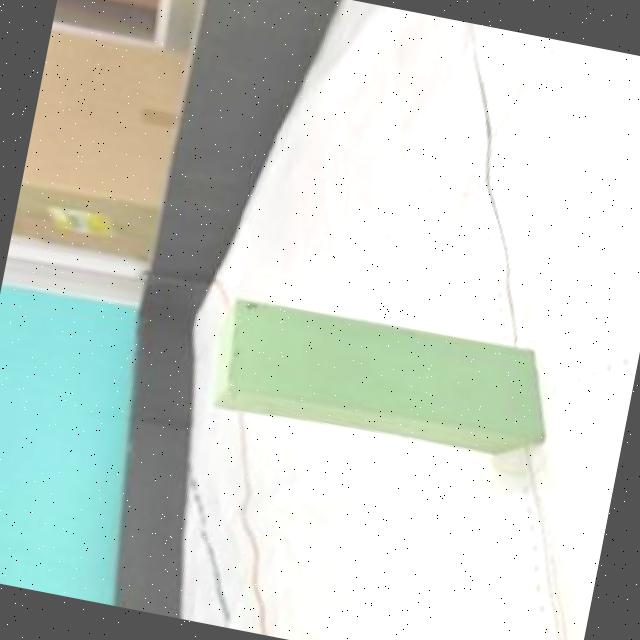greenbox: (203, 290, 566, 476)
